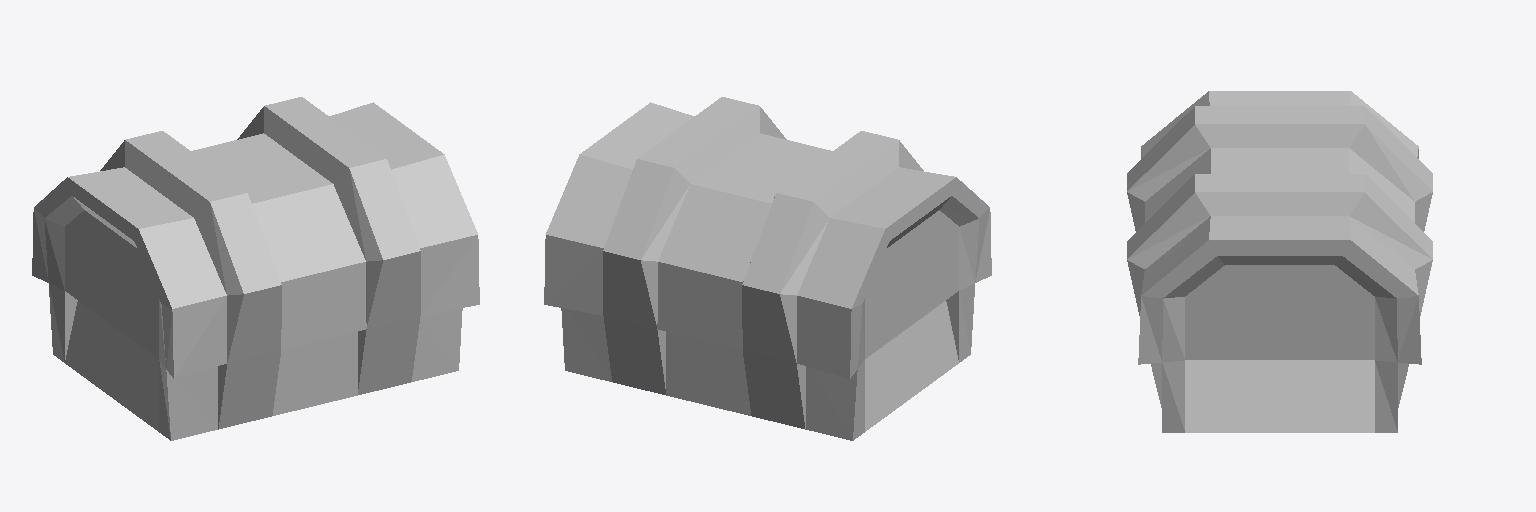
Rendered from trunk_large_C.obj.
3 renders of one model, left to right at view 1: azimuth 30°, elevation 25°; view 2: azimuth 150°, elevation 25°; view 3: azimuth 270°, elevation 25°, orthographic.
Visible parts, largest first — view 1: trunk_large_C_Cube.455; view 2: trunk_large_C_Cube.455; view 3: trunk_large_C_Cube.455.
Part boxes in pixels (bbox=[...]): trunk_large_C_Cube.455: bbox=[32, 97, 479, 440]; trunk_large_C_Cube.455: bbox=[544, 97, 991, 440]; trunk_large_C_Cube.455: bbox=[1127, 91, 1432, 432].
Bounding box in the file's own units: 1.5 × 1 × 1.3.